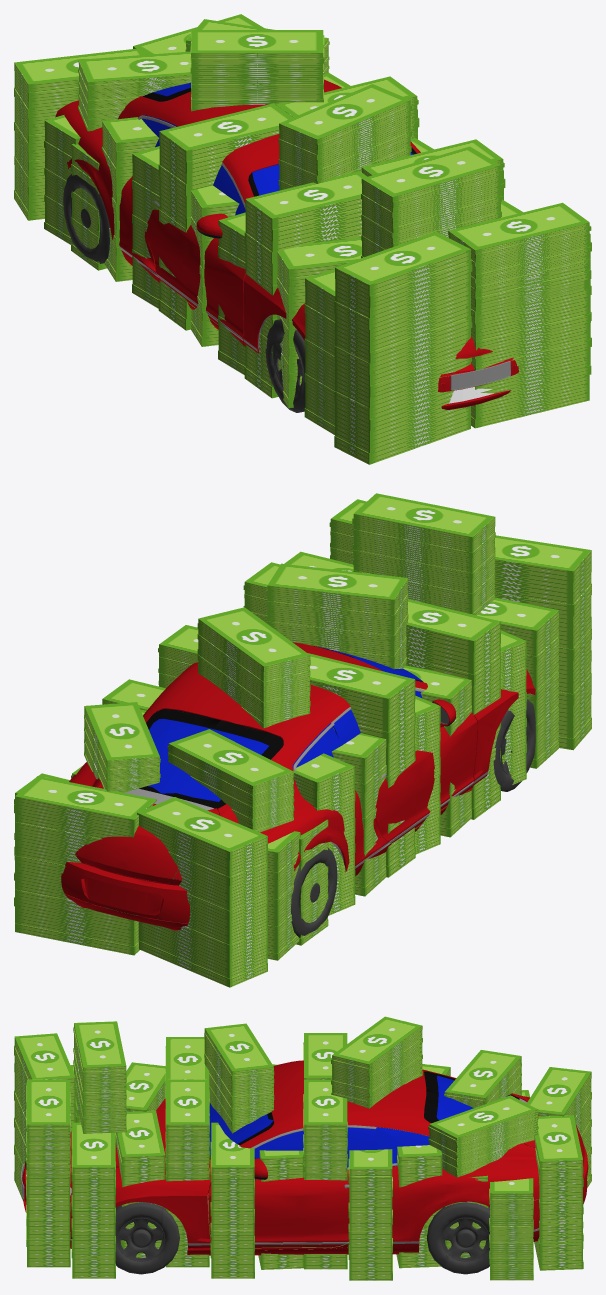
File: money_car2_money.fbx
The picture shows the model from 3 angles, top to bottom: view 1: azimuth 30°, elevation 25°; view 2: azimuth 150°, elevation 25°; view 3: azimuth 270°, elevation 25°; orthographic projection. The views are drawn at different scales.
Visible parts, largest first — view 1: Box1889, Box1886, Box1891, Box1875, Object002, Box1883, Box1881, Box1890, Box1873, Object003, Box1053, Box1867 (+14 smaller); view 2: Box1053, Plane004, Box1047, Object003, Box1891, Box1883, Box1889, Box1875, Box1881, Box1873, Box1867, Object002 (+15 smaller); view 3: Object003, Object002, Plane004, Box1047, Box1885, Box1877, Box1875, Box1883, Box1869, Box1892, Box1891, Object001 (+16 smaller).
Boxes of the visible parts, x1,y1,x2,y2 form: Box1889: [334, 231, 472, 464]; Box1886: [471, 264, 591, 428]; Box1891: [361, 146, 502, 258]; Box1875: [190, 30, 324, 111]; Object002: [183, 134, 420, 389]; Box1883: [278, 84, 411, 190]; Box1881: [244, 171, 367, 398]; Box1890: [448, 202, 591, 315]; Box1873: [158, 103, 292, 330]; Object003: [94, 79, 341, 298]; Box1053: [14, 48, 145, 220]; Box1867: [78, 51, 190, 131]; Box1053: [137, 797, 267, 987]; Plane004: [61, 726, 329, 937]; Box1047: [14, 776, 156, 955]; Object003: [143, 662, 417, 917]; Box1891: [352, 493, 495, 615]; Box1883: [266, 563, 408, 669]; Box1889: [495, 535, 591, 750]; Box1875: [197, 607, 310, 728]; Box1881: [405, 599, 500, 819]; Box1873: [307, 653, 415, 877]; Box1867: [167, 729, 294, 832]; Object002: [293, 642, 505, 831]; Object003: [304, 1069, 446, 1269]; Object002: [162, 1060, 304, 1267]; Plane004: [446, 1075, 588, 1274]; Box1047: [534, 1115, 583, 1270]; Box1885: [71, 1122, 115, 1278]; Box1877: [210, 1122, 254, 1278]; Box1875: [331, 1016, 422, 1108]; Box1883: [204, 1023, 274, 1133]; Box1869: [348, 1149, 392, 1280]; Box1892: [428, 1095, 538, 1177]; Box1891: [73, 1021, 126, 1133]; Object001: [21, 1101, 162, 1274].
Size of the model in its own units: 213 by 173 by 486.
